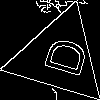D: (33, 31, 90, 79)
